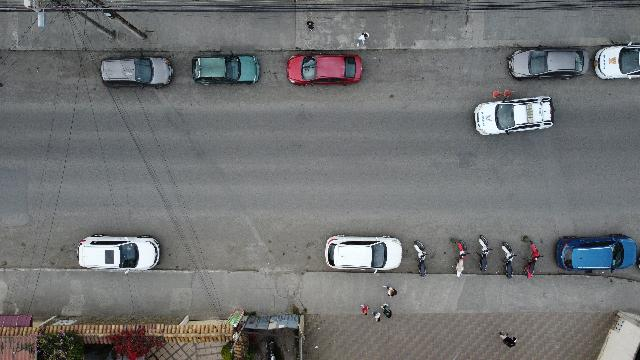Vehiculo: (556, 233, 638, 272), (475, 97, 555, 136), (78, 234, 160, 270), (326, 234, 402, 272), (508, 48, 588, 80), (286, 54, 362, 86), (100, 56, 172, 88), (192, 54, 260, 84), (594, 45, 640, 79)
